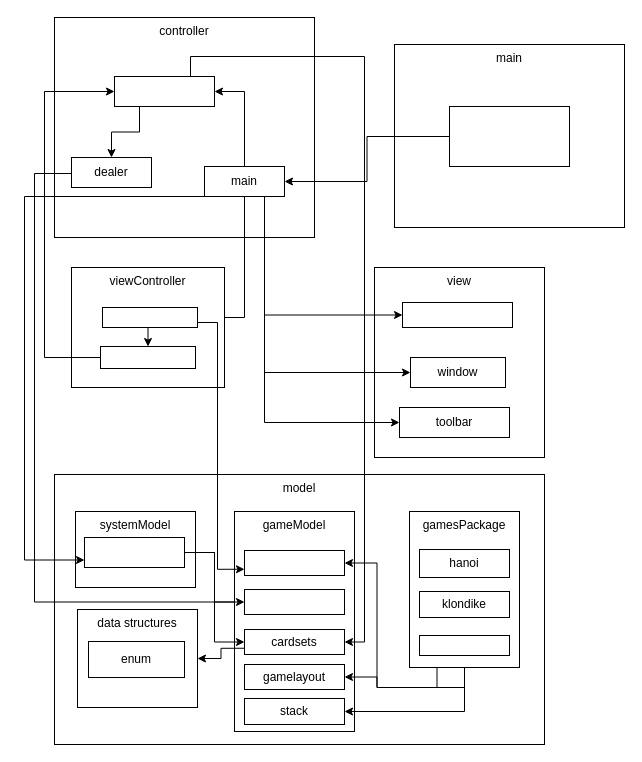
Some shapes in this 642 by 762 pixel diagram are drawn without their labels. The centre of each missing label's shape, as x and y in pixels:
"assets" belongs at [134,552].
"card" belongs at [294,601].
"database" belongs at [294,563].
"freecell" belongs at [464,645].
"gamemanager" belongs at [164,91].
"menuactions" belongs at [148,357].
"progressbar" belongs at [457,315].
"pysol" belongs at [509,136].
"taskmenu" belongs at [150,317].
